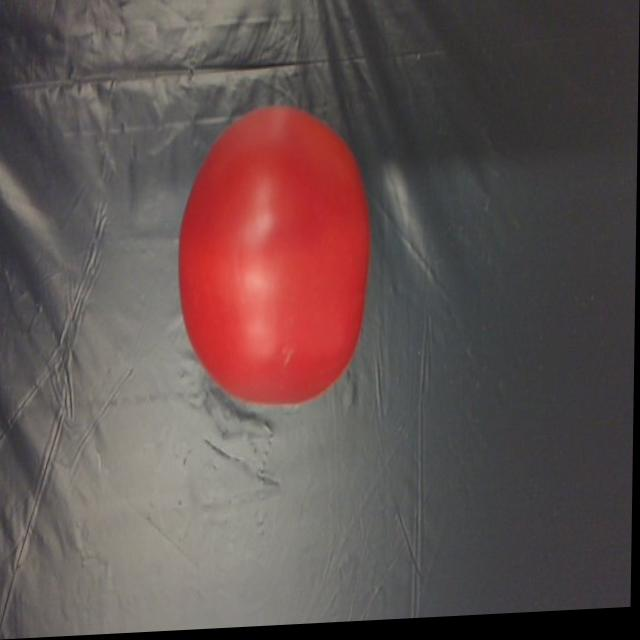kirmizi: (172, 110, 379, 427)
